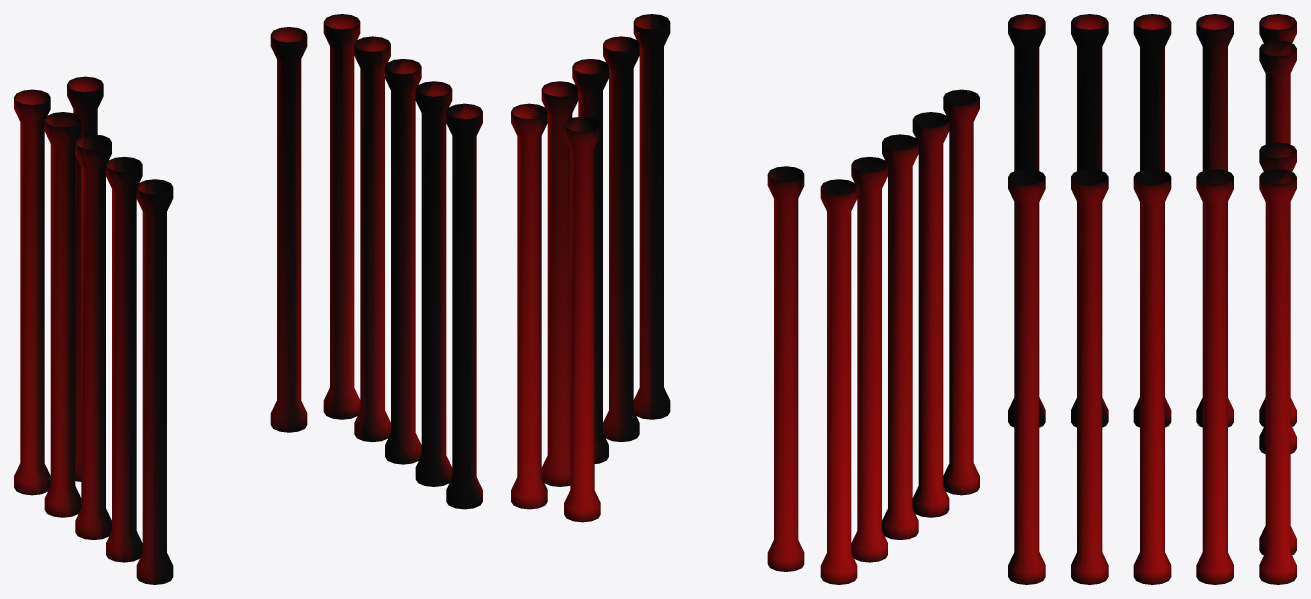
The model's file is RoofAccessPillars_export.obj.
3 views of the same model, side by side, from view 1: azimuth 30°, elevation 25°; view 2: azimuth 150°, elevation 25°; view 3: azimuth 270°, elevation 25° (orthographic). The views are drawn at different scales.
Parts seen in each view (by area): view 1: RoofAccessPillars; view 2: RoofAccessPillars; view 3: RoofAccessPillars.
Boxes of the visible parts, box(x1,y1,x2,y2) form: RoofAccessPillars: box(14, 14, 482, 584); RoofAccessPillars: box(511, 14, 979, 584); RoofAccessPillars: box(1008, 14, 1296, 584).
Size of the model in its own units: 3.22 by 3.52 by 2.3.
